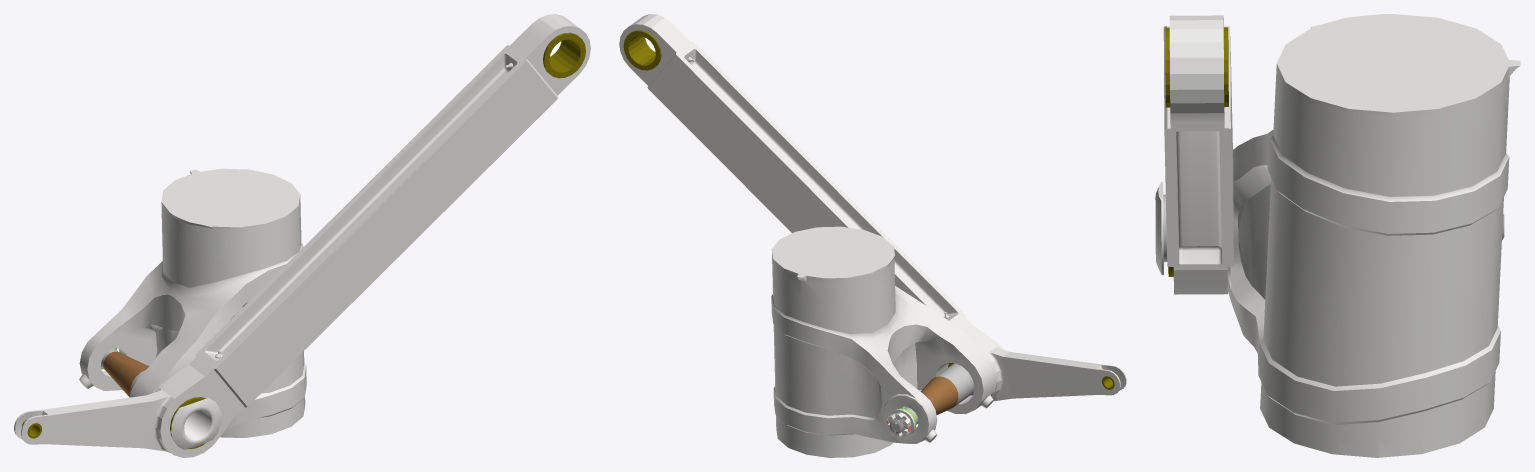
The picture shows the model from 3 angles, left to right: view 1: azimuth 30°, elevation 25°; view 2: azimuth 150°, elevation 25°; view 3: azimuth 270°, elevation 25°; orthographic projection. The views are drawn at different scales.
Parts seen in each view (by area): view 1: [8] LOWER SIDE STRUT, [51] SHOCK STRUT, [52] SIDE STRUT PIN; view 2: [51] SHOCK STRUT, [8] LOWER SIDE STRUT, [52] SIDE STRUT PIN; view 3: [51] SHOCK STRUT, [8] LOWER SIDE STRUT, [52] SIDE STRUT PIN.
Boxes of the visible parts, x1=… form: [8] LOWER SIDE STRUT: x1=14, y1=14, x2=590, y2=457; [51] SHOCK STRUT: x1=79, y1=168, x2=306, y2=437; [52] SIDE STRUT PIN: x1=101, y1=348, x2=221, y2=449; [51] SHOCK STRUT: x1=771, y1=226, x2=997, y2=457; [8] LOWER SIDE STRUT: x1=619, y1=14, x2=1126, y2=401; [52] SIDE STRUT PIN: x1=889, y1=363, x2=974, y2=433; [51] SHOCK STRUT: x1=1227, y1=14, x2=1520, y2=457; [8] LOWER SIDE STRUT: x1=1163, y1=15, x2=1233, y2=294; [52] SIDE STRUT PIN: x1=1155, y1=182, x2=1504, y2=274.
Bounding box in the file's own units: 86.09 × 52.93 × 28.94.
